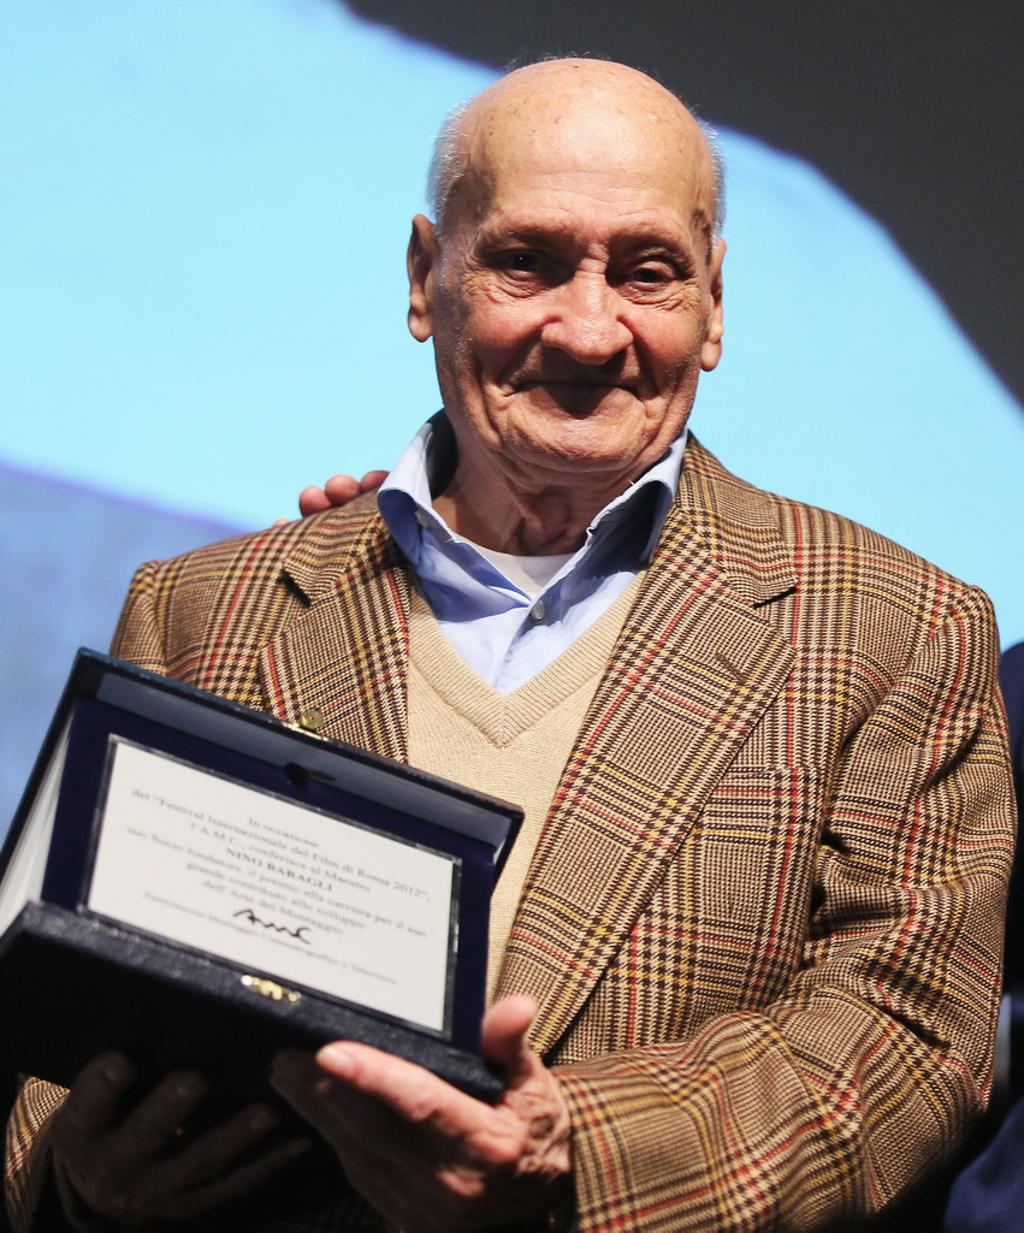face: (442, 67, 702, 471)
